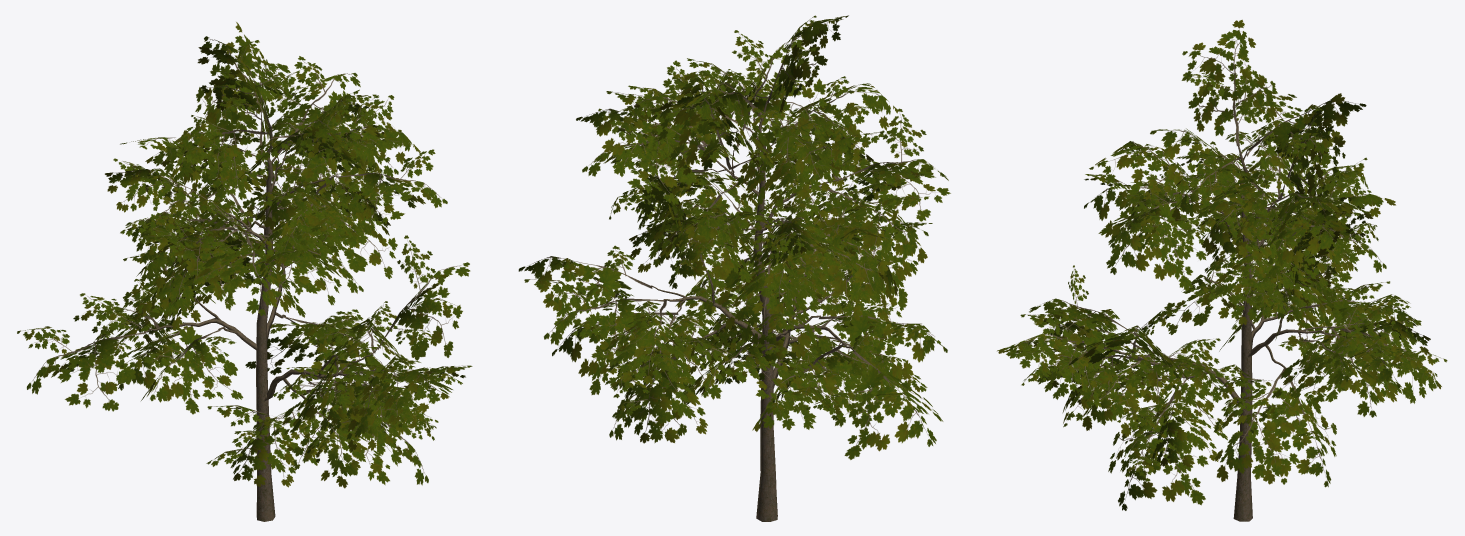
The model's file is maple_acer_small_2_lod0.gltf.
3 renders of one model, left to right at view 1: azimuth 30°, elevation 25°; view 2: azimuth 150°, elevation 25°; view 3: azimuth 270°, elevation 25°, orthographic. The views are drawn at different scales.
Visible parts, largest first — view 1: Acer_small_2_LOD0_Cluster_Mat_0, Acer_small_2_LOD0_Bark_Mat_0; view 2: Acer_small_2_LOD0_Cluster_Mat_0, Acer_small_2_LOD0_Bark_Mat_0; view 3: Acer_small_2_LOD0_Cluster_Mat_0, Acer_small_2_LOD0_Bark_Mat_0.
Part boxes in pixels (bbox=[...]): Acer_small_2_LOD0_Cluster_Mat_0: bbox=[17, 22, 472, 488]; Acer_small_2_LOD0_Bark_Mat_0: bbox=[144, 126, 377, 521]; Acer_small_2_LOD0_Cluster_Mat_0: bbox=[518, 15, 950, 459]; Acer_small_2_LOD0_Bark_Mat_0: bbox=[651, 100, 855, 521]; Acer_small_2_LOD0_Cluster_Mat_0: bbox=[997, 19, 1447, 510]; Acer_small_2_LOD0_Bark_Mat_0: bbox=[1115, 143, 1339, 521].
Size of the model in its own units: 5.35 by 6.39 by 5.64.
Materials: 2 (2 with a texture image).
